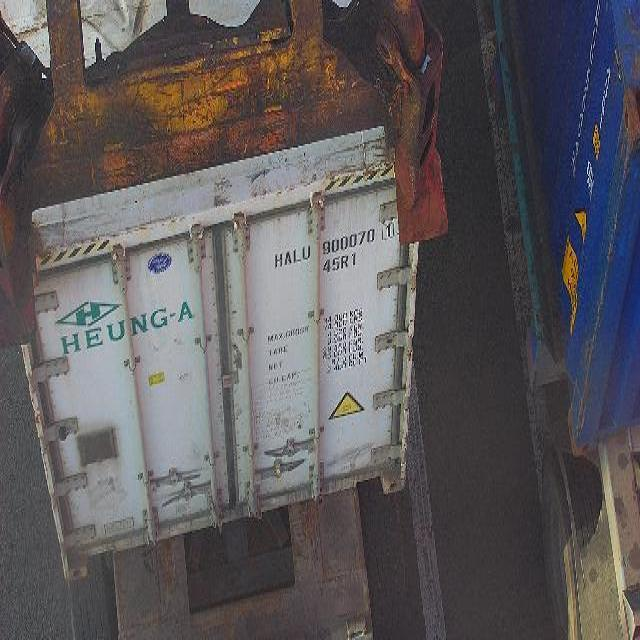ISO: (322, 252, 362, 276)
container_number: (272, 215, 398, 270)
